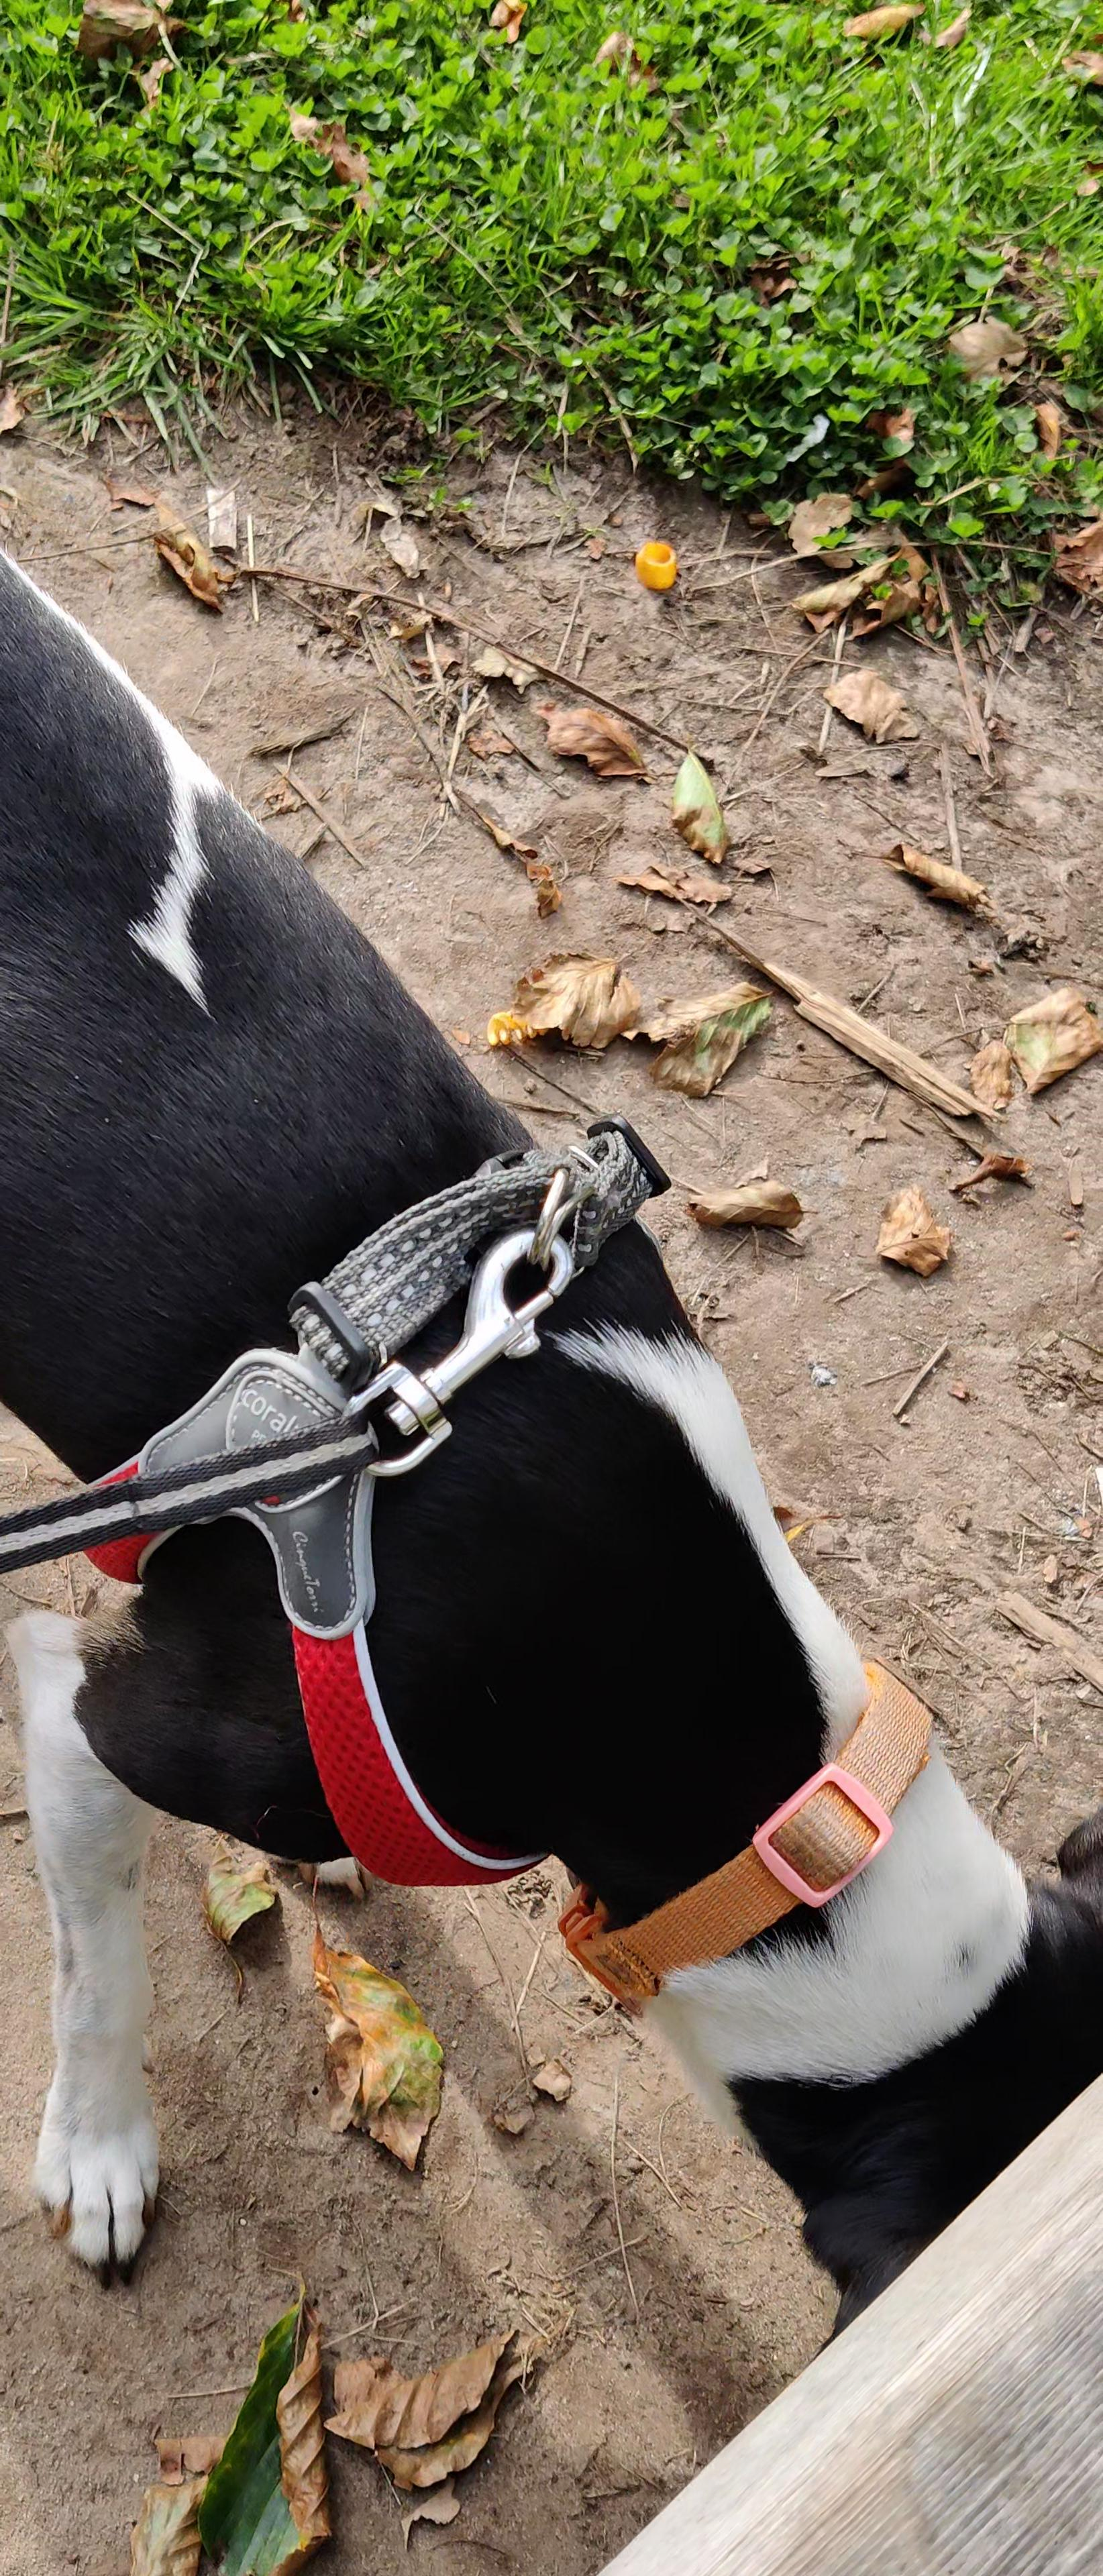Dog: (0, 448, 1103, 2376)
